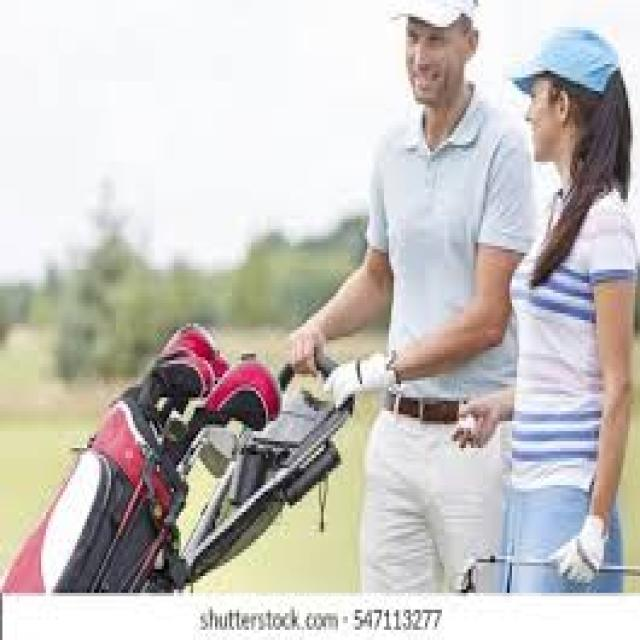cap: (497, 13, 628, 155), (369, 0, 500, 91)
